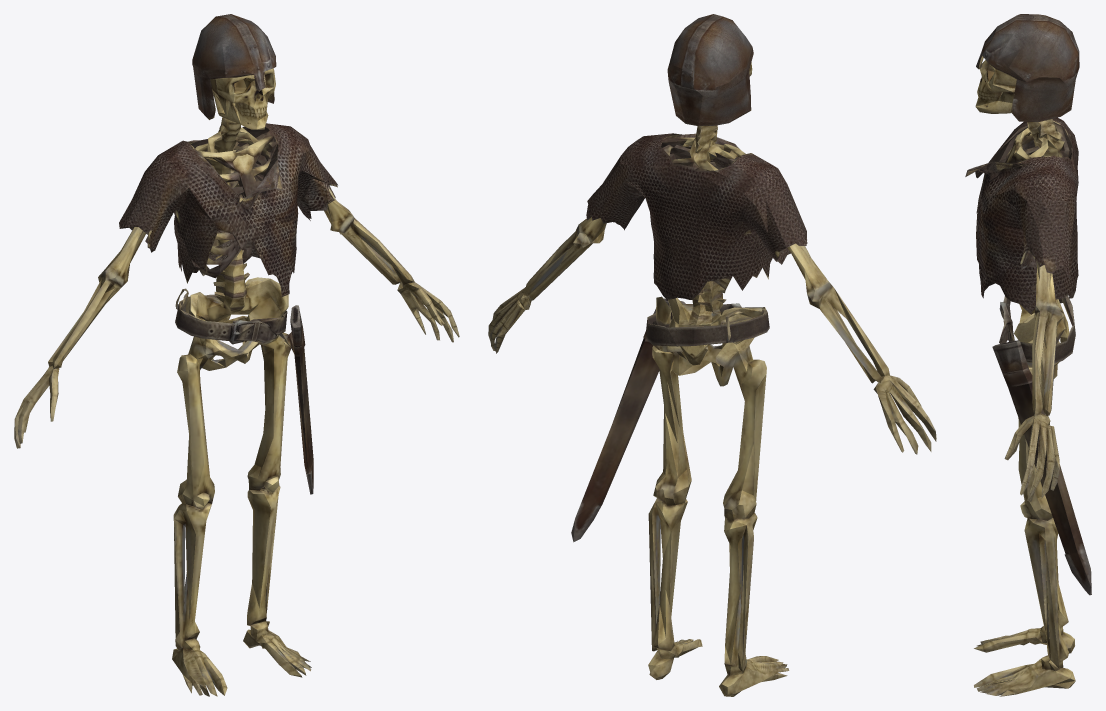
Rendered from MW_SkelSoldier.glb.
3 renders of one model, left to right at view 1: azimuth 30°, elevation 25°; view 2: azimuth 150°, elevation 25°; view 3: azimuth 270°, elevation 25°, orthographic.
Size of the model in its own units: 1.34 by 1.9 by 0.3333.
Materials: 1 (1 with a texture image).
